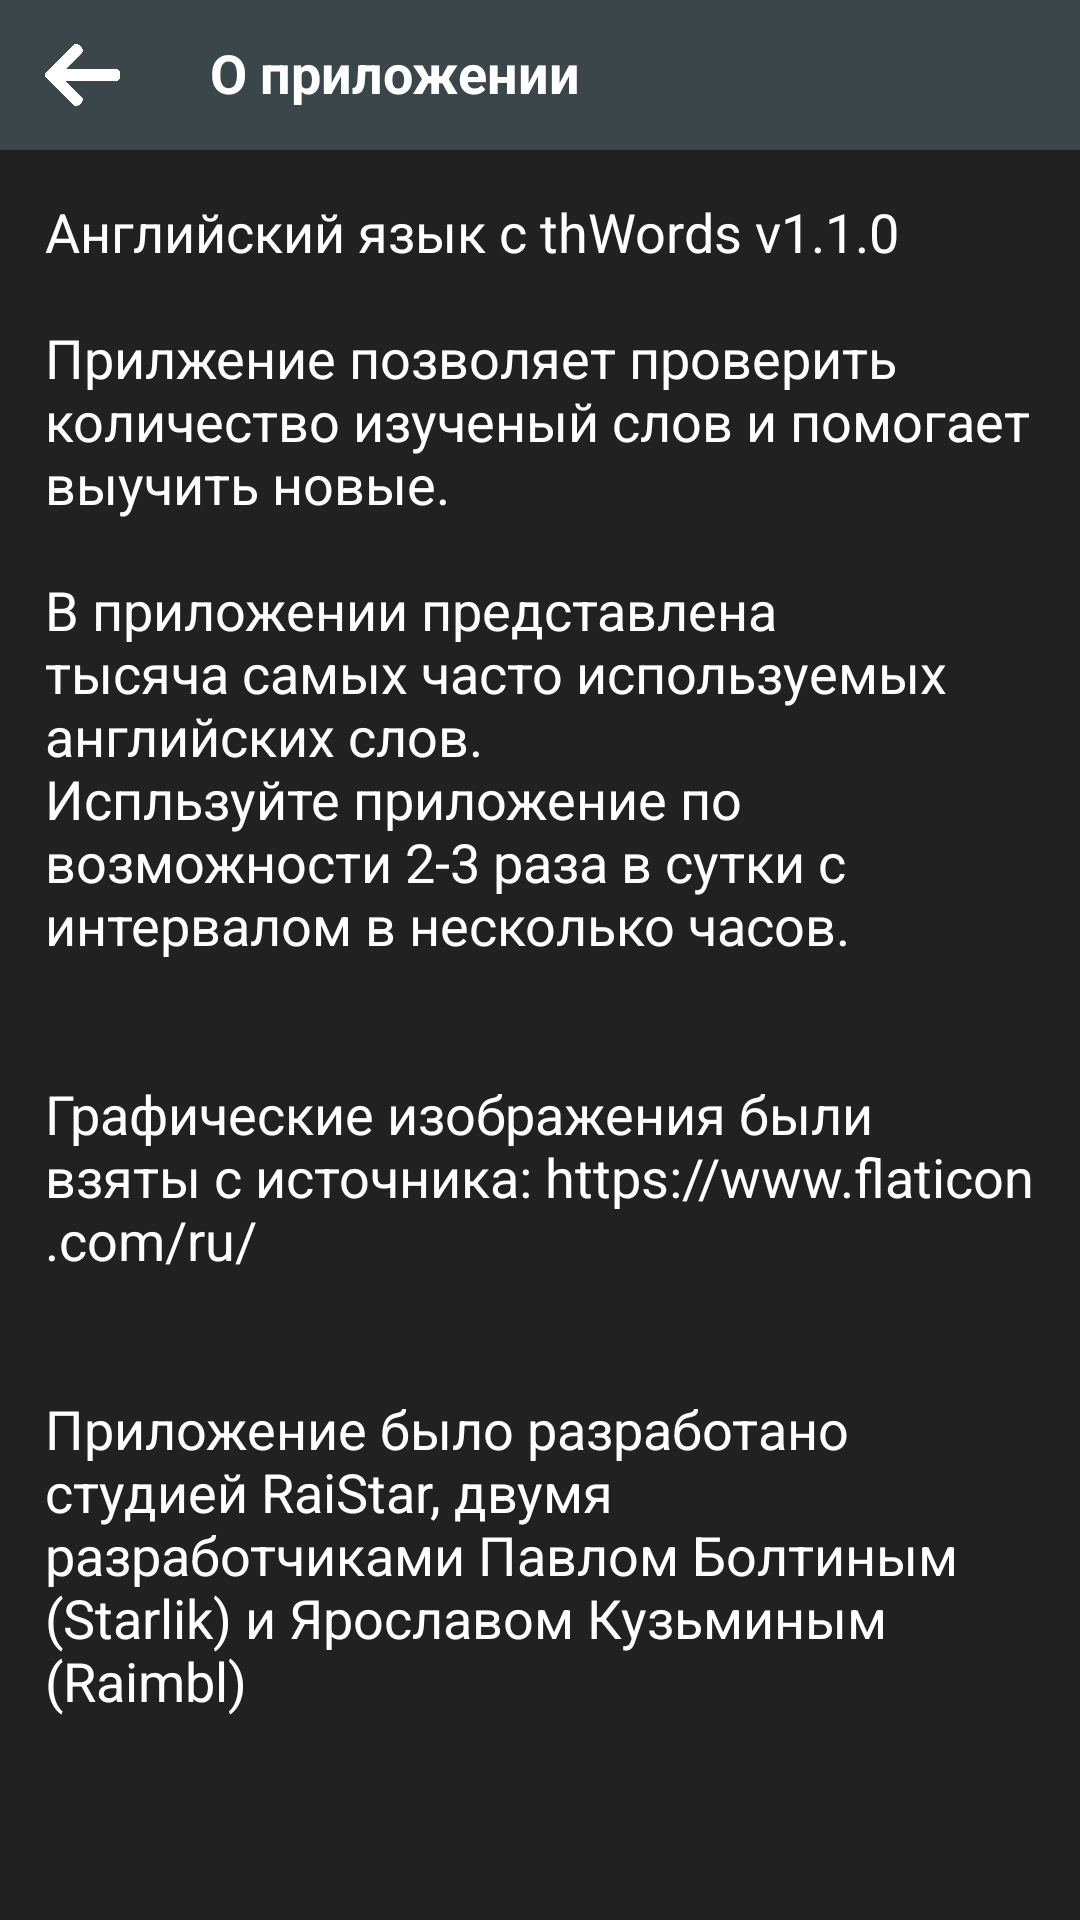

Where icons sit on this 1080 x 1920 app screen, as (x1, y1, x2, y2):
back: (45, 44, 120, 106)
